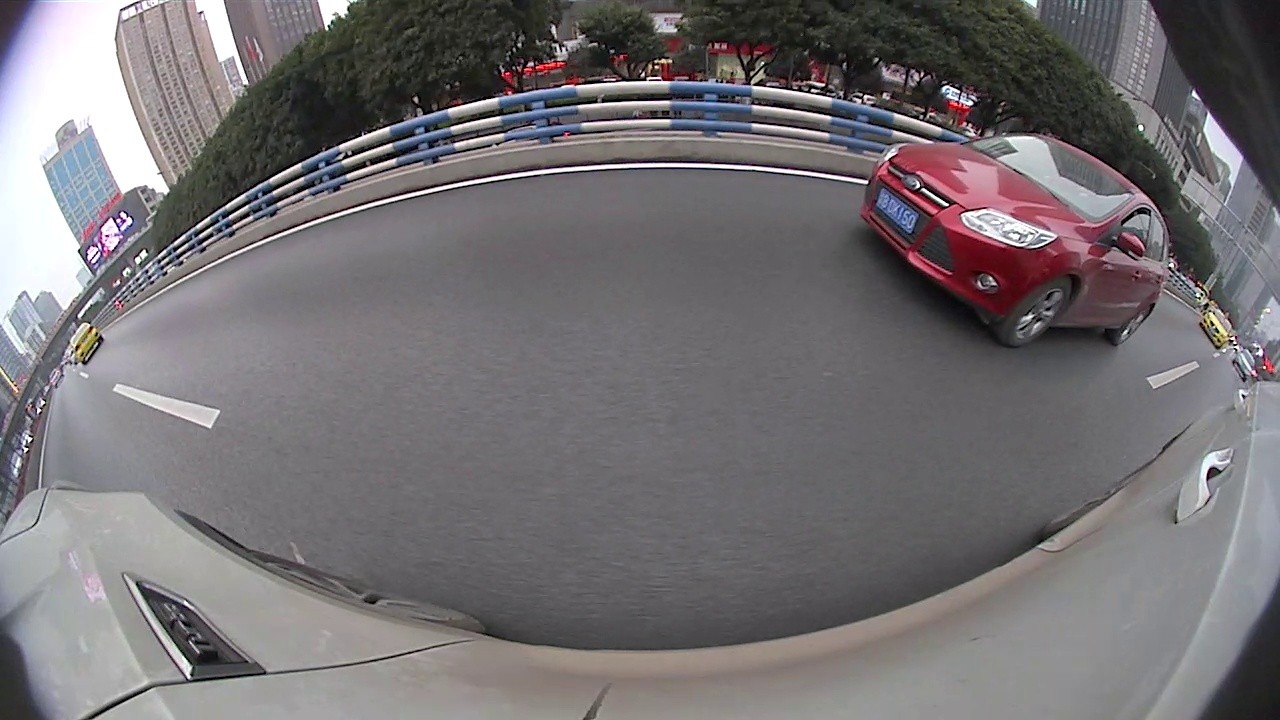car: (859, 132, 1168, 349), (68, 323, 105, 368), (1200, 309, 1234, 349)
front: (993, 283, 1078, 345)
rear: (1108, 303, 1154, 344)
